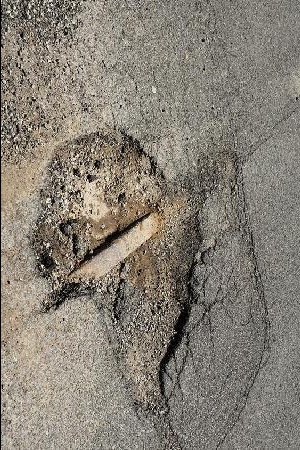pothole: (25, 124, 206, 418)
